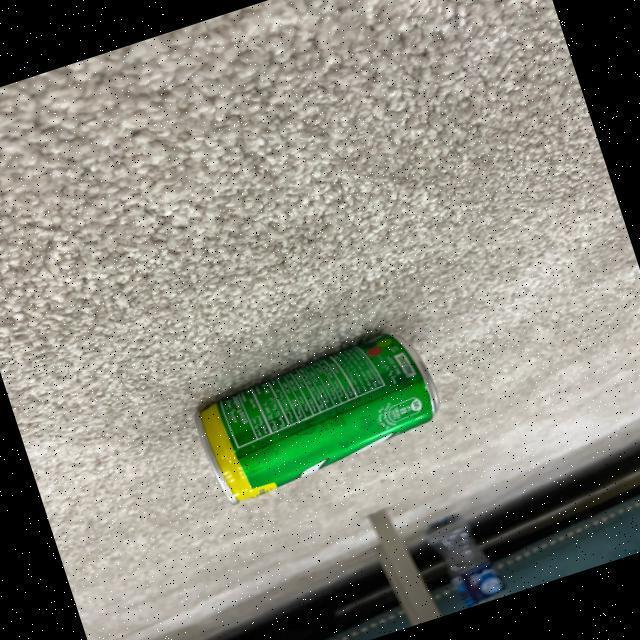can: (188, 318, 450, 511)
